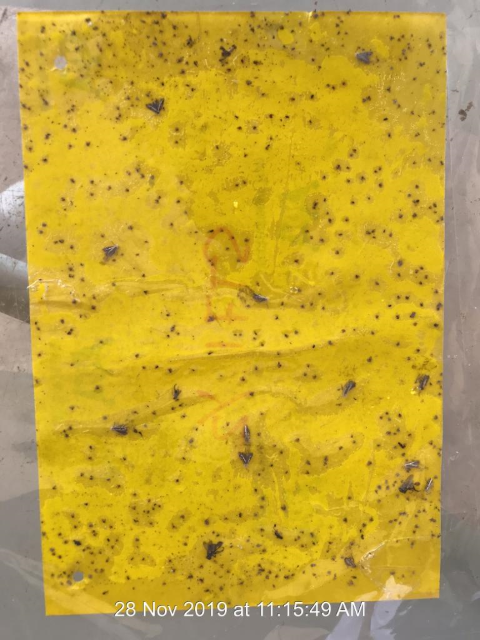DBM: (144, 97, 165, 117), (339, 379, 357, 401), (401, 457, 424, 473), (109, 420, 130, 437), (101, 241, 121, 258), (354, 50, 375, 66), (235, 450, 256, 466), (341, 553, 358, 570), (418, 374, 432, 393), (241, 422, 253, 444), (252, 292, 272, 305), (423, 475, 436, 494)
